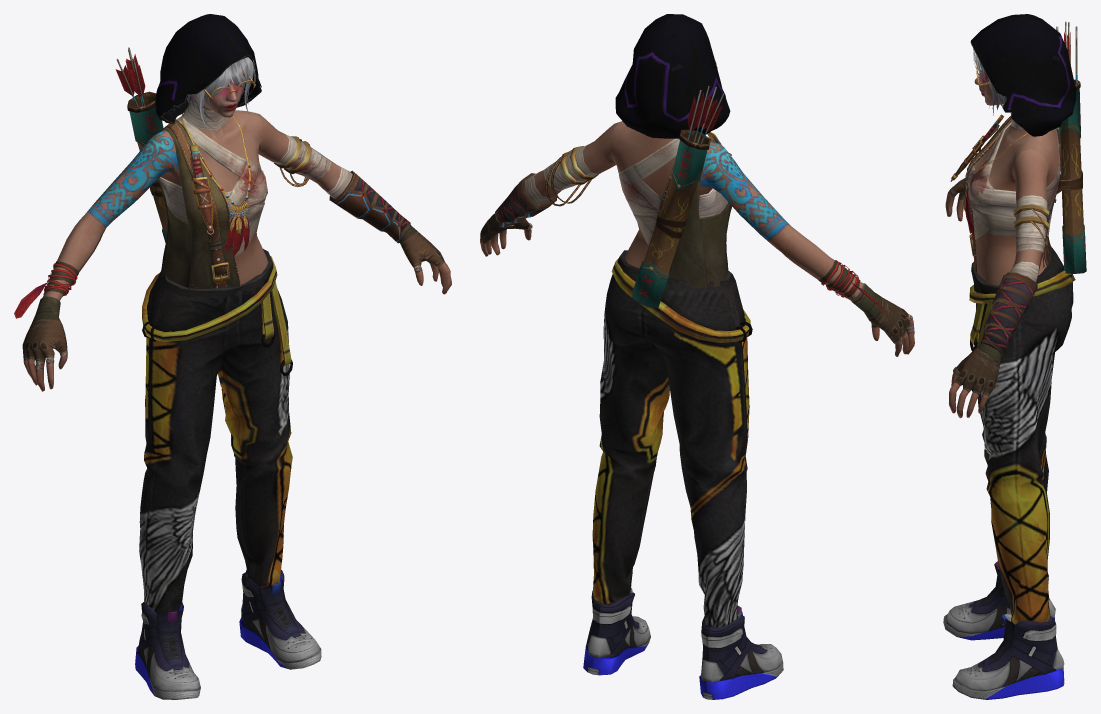
Rendered from success.glb.
3 renders of one model, left to right at view 1: azimuth 30°, elevation 25°; view 2: azimuth 150°, elevation 25°; view 3: azimuth 270°, elevation 25°, orthographic. The views are drawn at different scales.
Visible parts, largest first — view 1: success; view 2: success; view 3: success.
Part boxes in pixels (x1=…): success: x1=14, y1=14, x2=451, y2=699; success: x1=480, y1=14, x2=914, y2=699; success: x1=943, y1=14, x2=1086, y2=699.
Bounding box in the file's own units: 0.6013 × 0.8941 × 0.1796.
8 materials, 8 textured.
